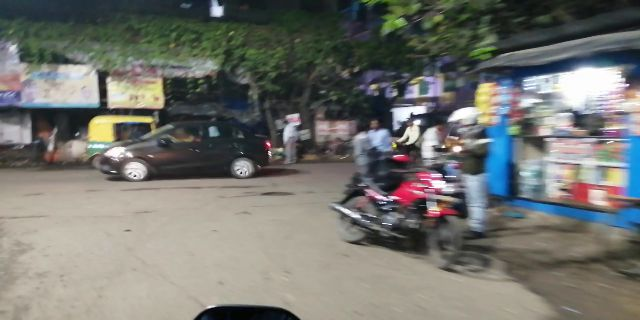Autorickshaw: (86, 114, 156, 163)
Car: (100, 119, 272, 184)
Motorbike: (330, 117, 474, 276)
